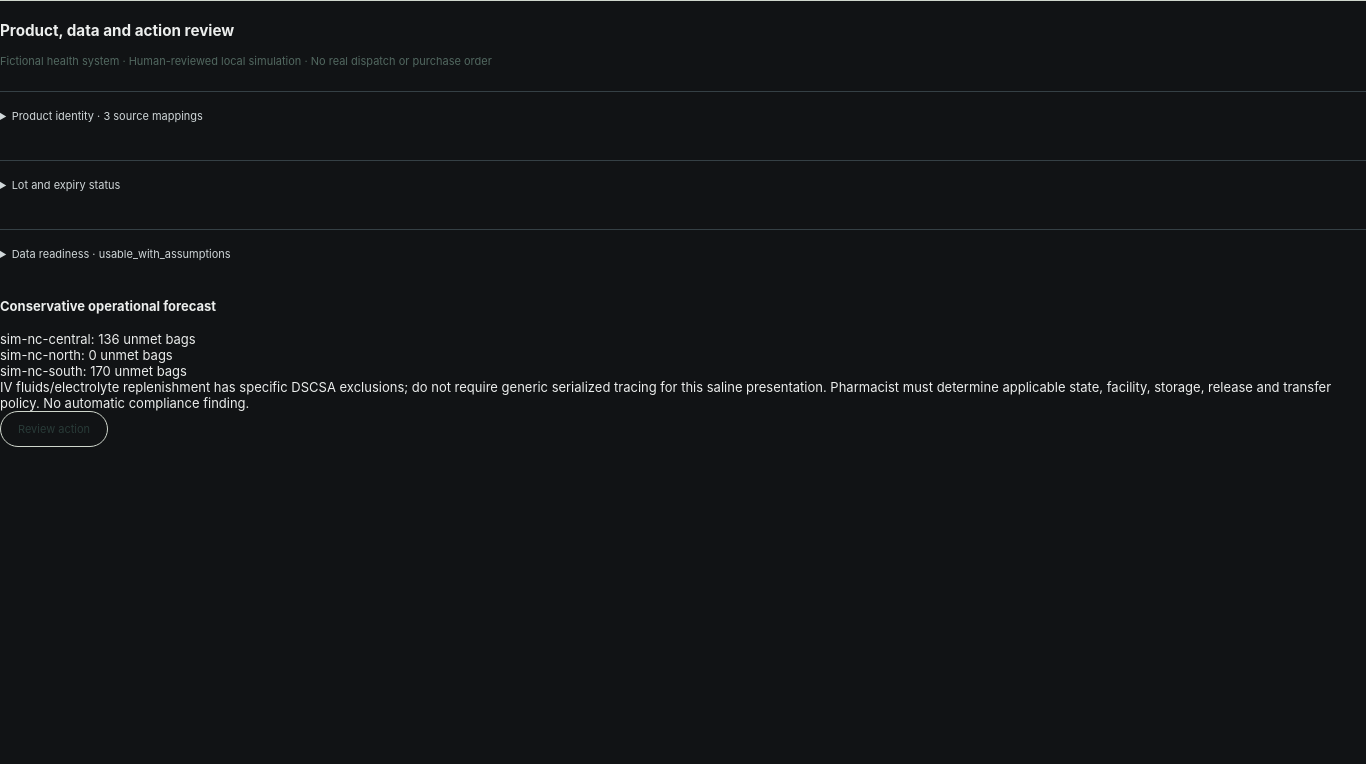
Test: shows actual API identity, readiness, partial receipt and forecast records
Check: the text "sim-nc-central: 136 unmet bags" is shown, box [0,331,196,347]
Click the button "Review action" at coordinates (54, 429), box [0,411,108,447]
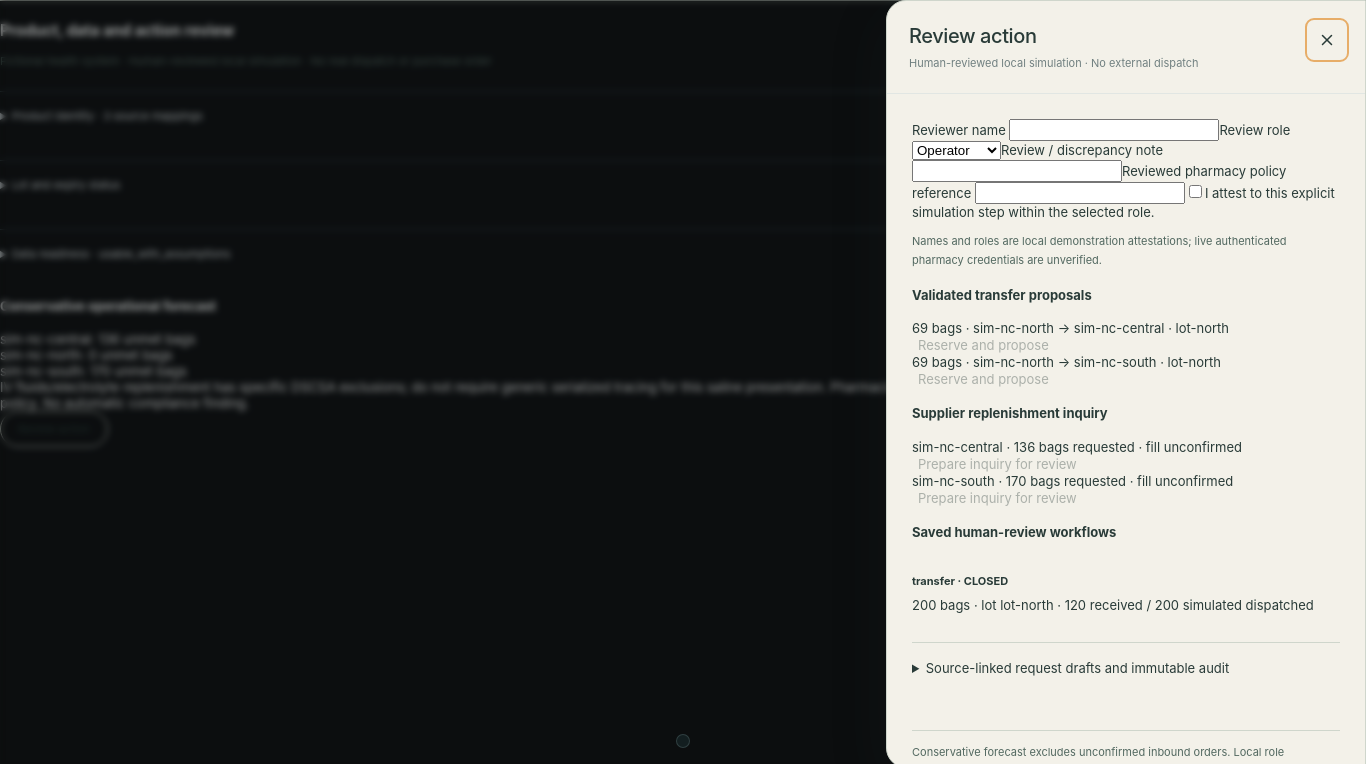
Check: the heading "Product identity · 3 source mappings" is shown, box [12,109,203,123]
Check: the text "transfer · CLOSED" is shown, box [912,574,1008,588]
Check: the text "120 received / 200 simulated dispatched" is shown, box [912,597,1340,613]
